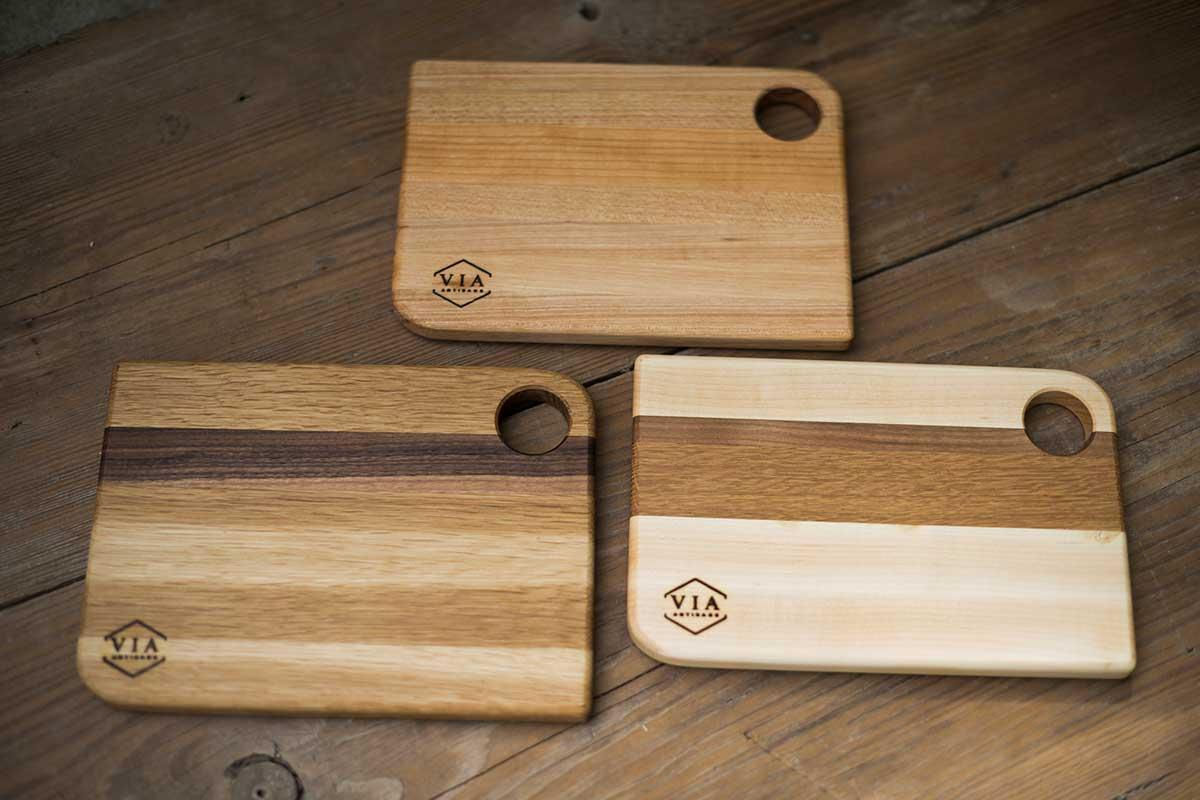gloved_hand: (616, 346, 1159, 702)
